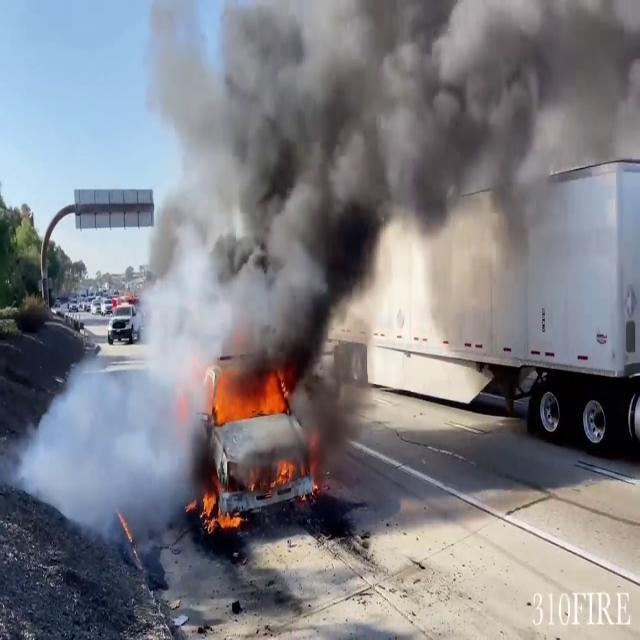Fire: (206, 356, 298, 427)
Smoke: (130, 0, 640, 344), (14, 333, 215, 530)
